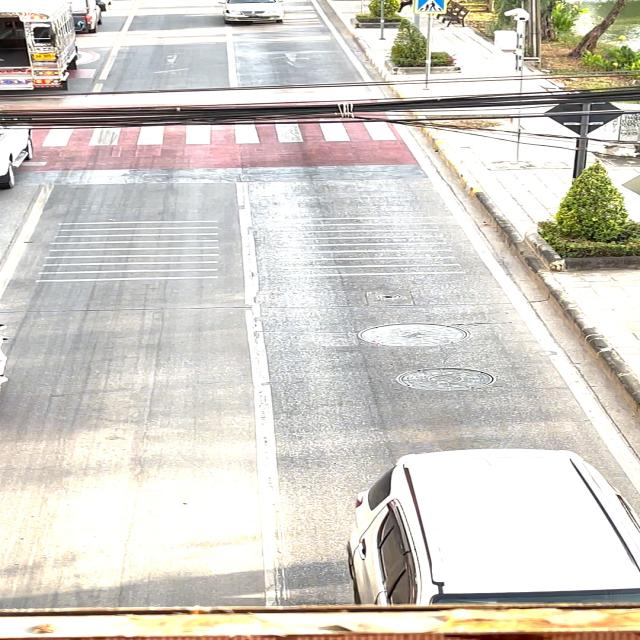car: (338, 439, 640, 614)
